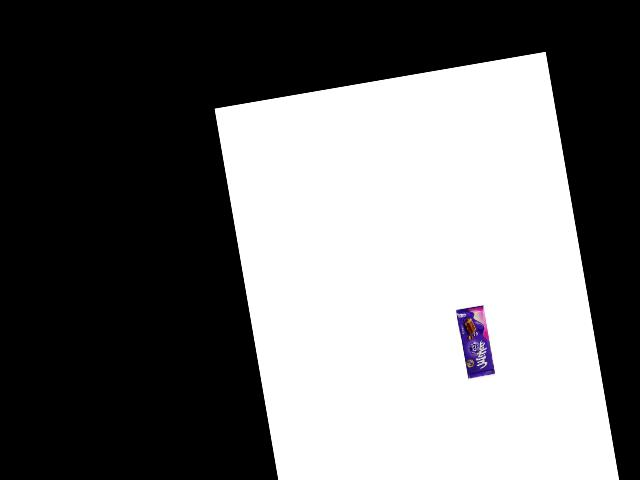chocolate: (455, 305, 495, 379)
